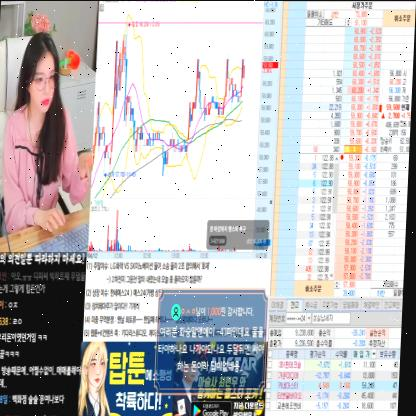donation: (156, 285, 272, 396)
streamer: (0, 32, 98, 232)
